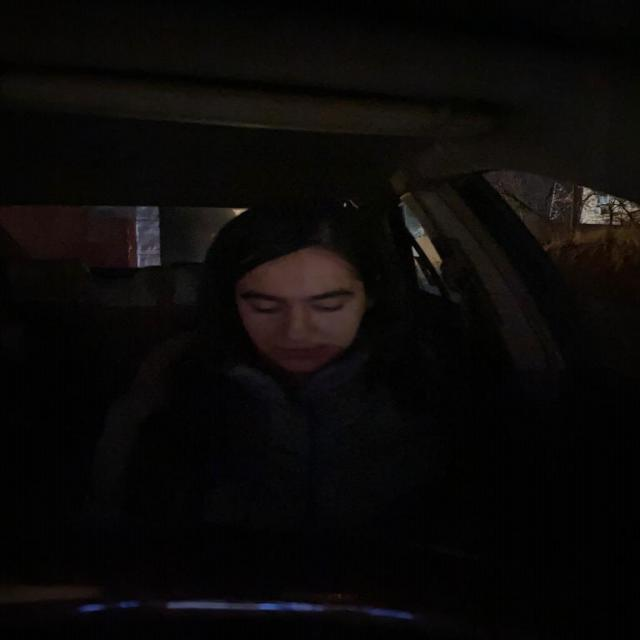drowsy: (210, 195, 390, 389)
